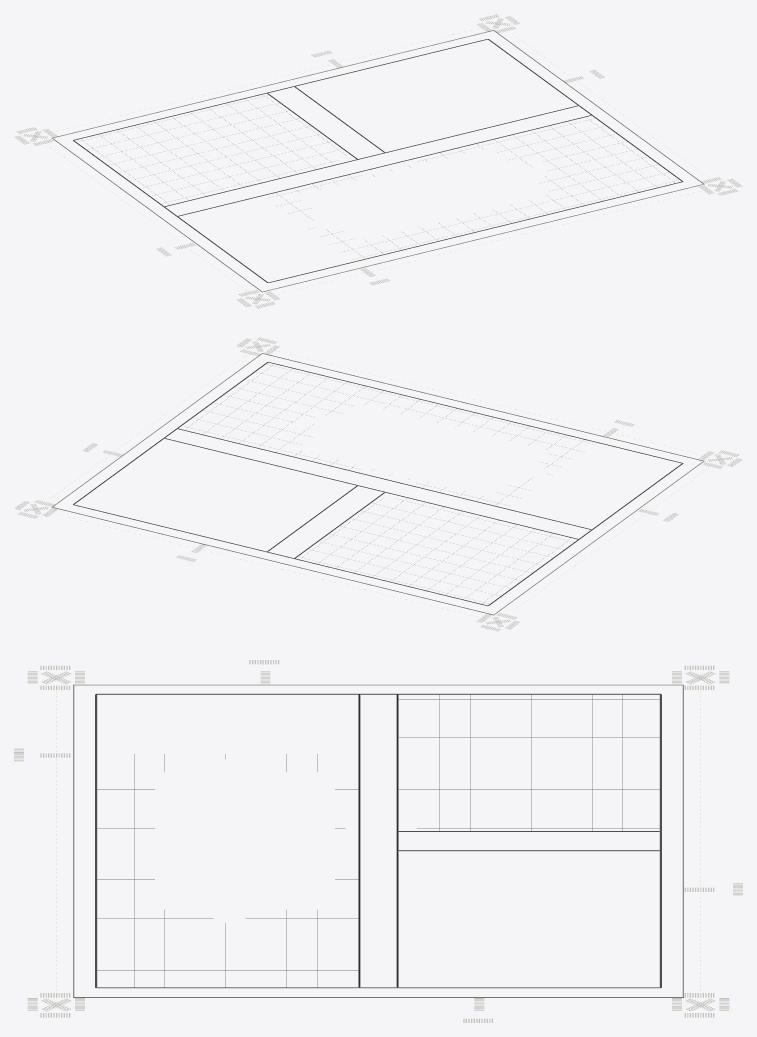
File: HEX_City_03_GROUND_DETAILS.fbx
3 views of the same model, one above another, from view 1: azimuth 30°, elevation 25°; view 2: azimuth 150°, elevation 25°; view 3: azimuth 270°, elevation 25° (orthographic). The views are drawn at different scales.
Visible parts, largest first — view 1: Plaza_DrainChannels, Street_Paint, Plaza_Curb; view 2: Plaza_DrainChannels, Street_Paint, Plaza_Curb; view 3: Plaza_DrainChannels, Street_Paint, Plaza_Curb, Plaza_ExpansionJoints.
Boxes of the visible parts, bbox=[...] form: Plaza_DrainChannels: bbox=[73, 39, 683, 283]; Street_Paint: bbox=[14, 14, 742, 308]; Plaza_Curb: bbox=[52, 30, 704, 292]; Plaza_DrainChannels: bbox=[73, 362, 683, 606]; Street_Paint: bbox=[14, 337, 742, 631]; Plaza_Curb: bbox=[51, 353, 704, 615]; Plaza_DrainChannels: bbox=[95, 693, 661, 988]; Street_Paint: bbox=[14, 660, 742, 1022]; Plaza_Curb: bbox=[73, 684, 683, 997]; Plaza_ExpansionJoints: bbox=[97, 695, 659, 986].
Size of the model in its own units: 1125 by 0.72 by 955.
Materials: 1 (1 with a texture image).
